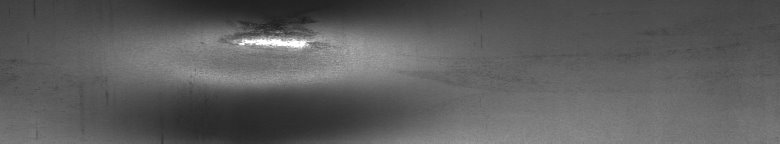ke: (220, 18, 332, 85)
